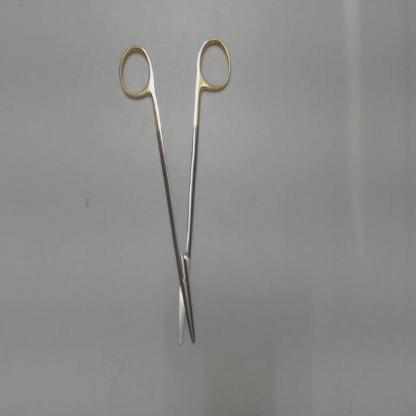7 Metzenbaum Scissors: (113, 32, 236, 355)
